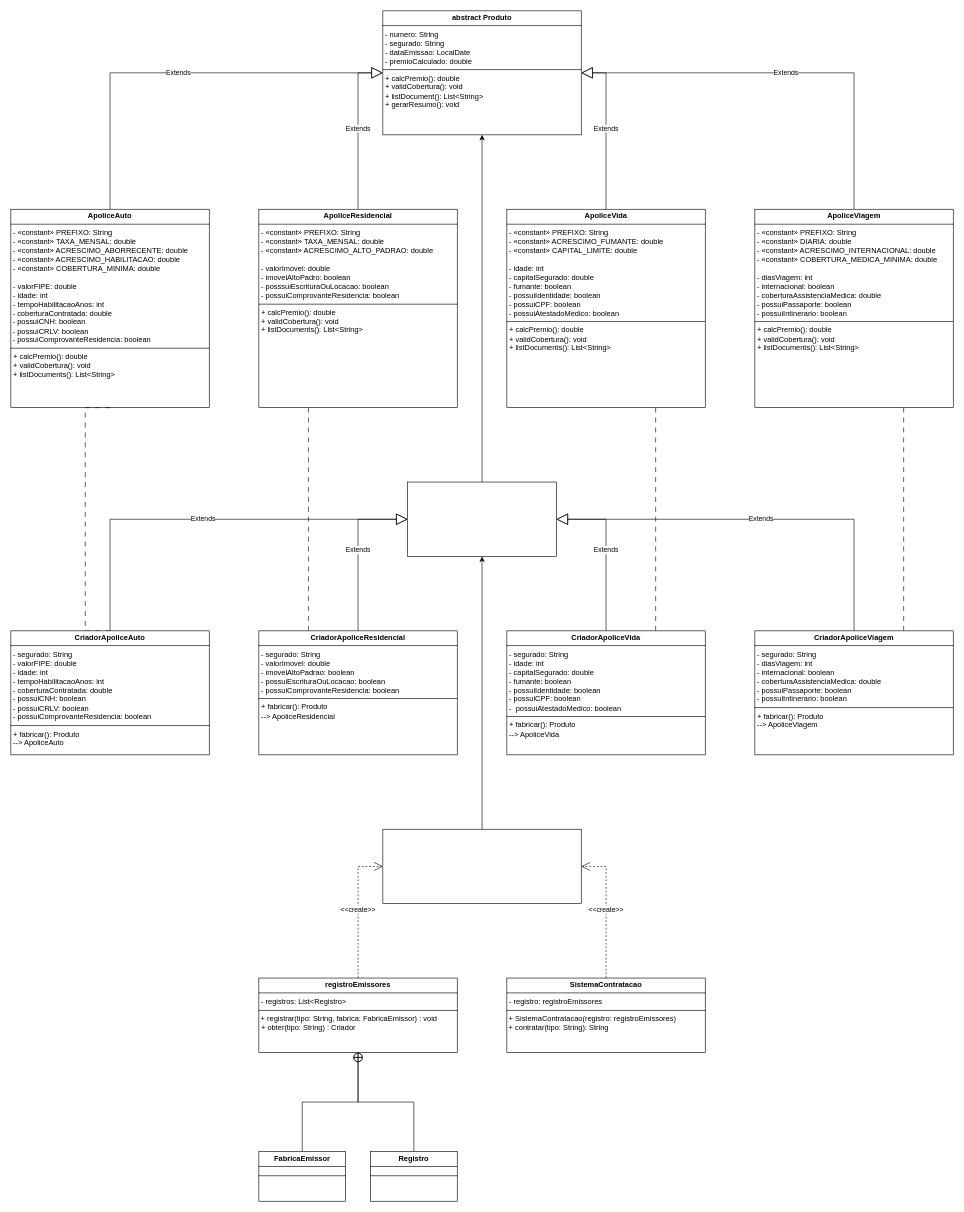
The diagram is 964 pixels wide and 1212 high, and some of its shapes have lost their labels. The centre of each missing label's shape, as x and y in pixels:
"abstract CriadorApolices + fabricar(): Produto + processarContratacao(): void" belongs at (x=481, y=518).
"Main + main(args : String[*]) : void" belongs at (x=481, y=866).
